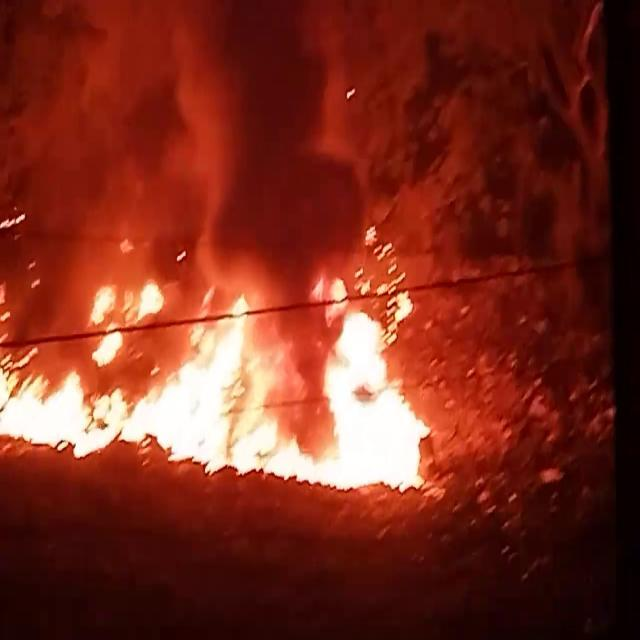Fire: (1, 261, 447, 487)
Smoke: (48, 0, 424, 312)
